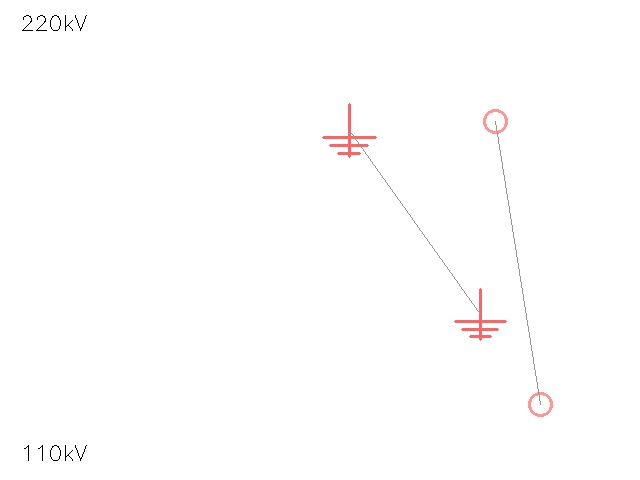ground: (323, 104, 375, 156), (455, 289, 505, 339)
load_break_switch: (472, 98, 518, 144)
surge_arrester: (518, 382, 562, 426)
